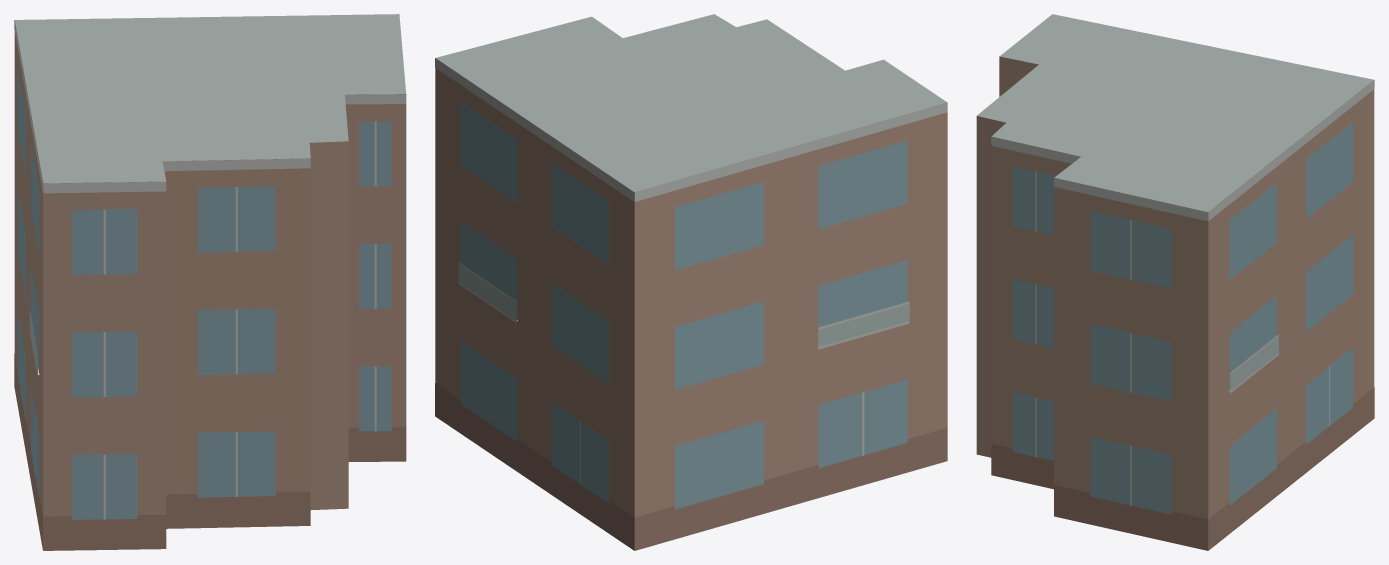
File: survey-upis-32995247.glb
The picture shows the model from 3 angles, left to right: view 1: azimuth 30°, elevation 25°; view 2: azimuth 150°, elevation 25°; view 3: azimuth 270°, elevation 25°; orthographic projection. The views are drawn at different scales.
Visible parts, largest first — view 1: survey-upis-32995247.tmp; view 2: survey-upis-32995247.tmp; view 3: survey-upis-32995247.tmp.
Boxes of the visible parts, x1,y1,x2,y2 form: survey-upis-32995247.tmp: [14, 14, 406, 550]; survey-upis-32995247.tmp: [435, 14, 947, 550]; survey-upis-32995247.tmp: [976, 14, 1374, 550].
Bounding box in the file's own units: 11.31 × 9 × 9.59.
